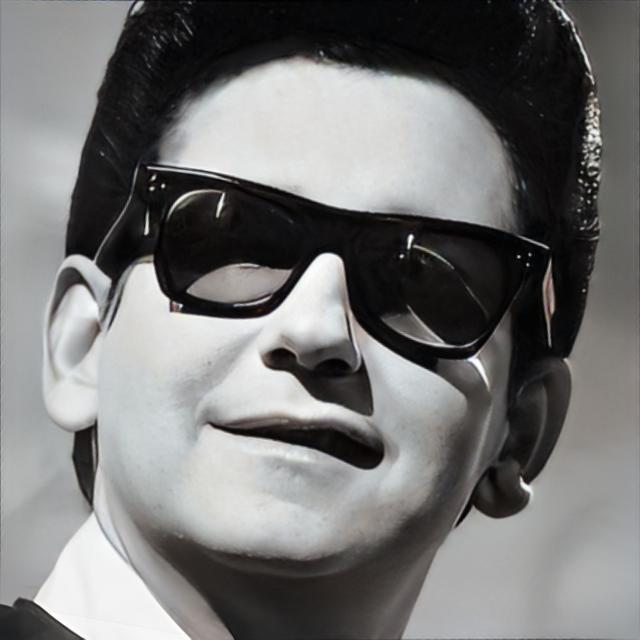neutral: (99, 54, 530, 578)
